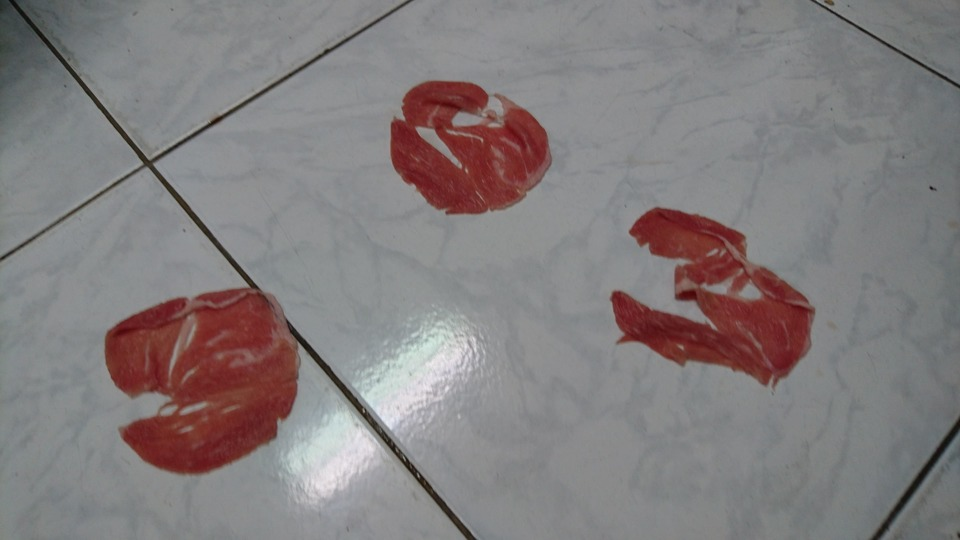restructured meat: (94, 280, 331, 468), (616, 194, 803, 404), (395, 74, 553, 222)
